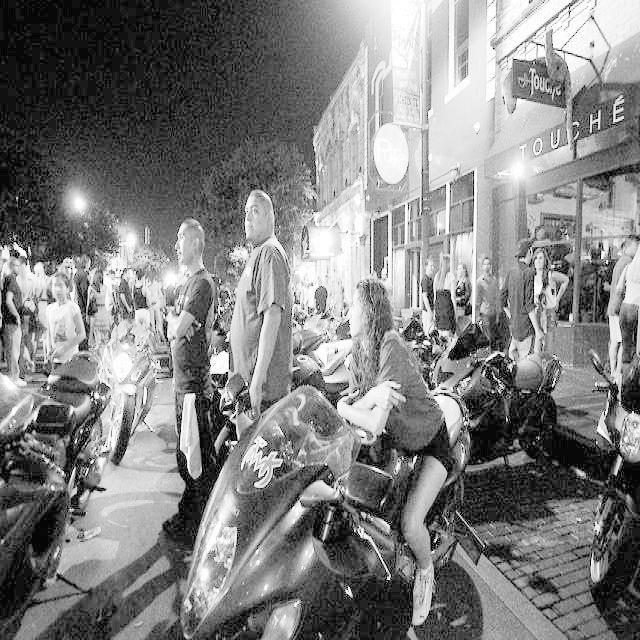Motorcycle: (179, 355, 482, 640), (415, 278, 570, 488), (569, 330, 640, 598), (0, 363, 73, 614), (51, 344, 120, 528), (99, 303, 161, 463)
